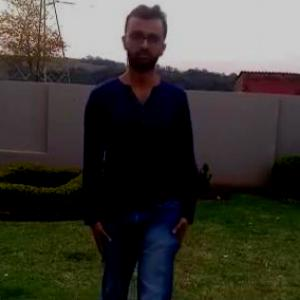follow: (76, 0, 203, 299)
